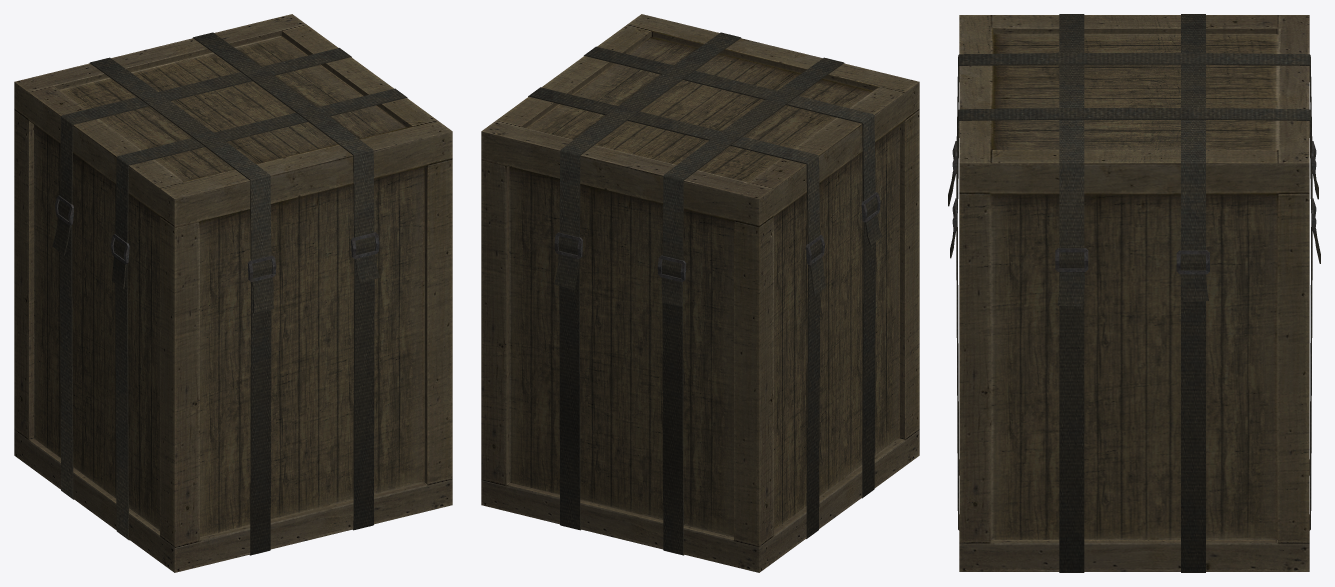
Rendered from wooden_crate_hx_3.dae.
3 renders of one model, left to right at view 1: azimuth 30°, elevation 25°; view 2: azimuth 150°, elevation 25°; view 3: azimuth 270°, elevation 25°, orthographic. The views are drawn at different scales.
Visible parts, largest first — view 1: wooden_crate_hx_3; view 2: wooden_crate_hx_3; view 3: wooden_crate_hx_3.
Boxes of the visible parts, x1,y1,x2,y2 form: wooden_crate_hx_3: (14,14,452,572); wooden_crate_hx_3: (481,14,919,572); wooden_crate_hx_3: (948,14,1320,572).
Bounding box in the file's own units: 1.49 × 1.49 × 1.82.
Materials: 3 (3 with a texture image).
